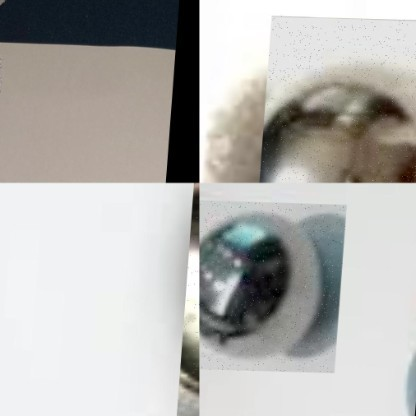ironball: (260, 14, 415, 182), (199, 198, 346, 371)
